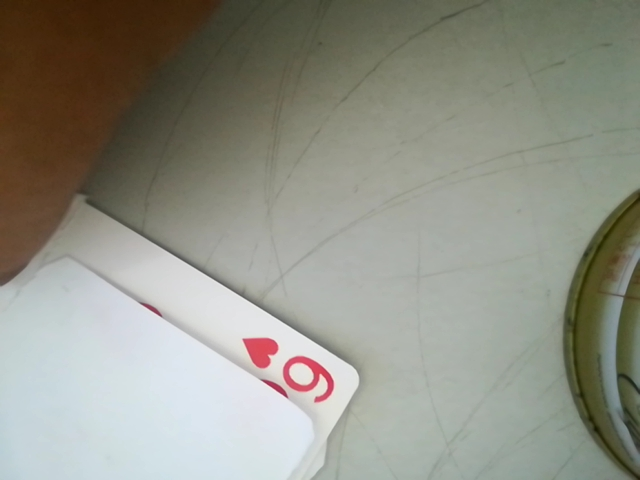hx 6: (231, 332, 352, 413)
